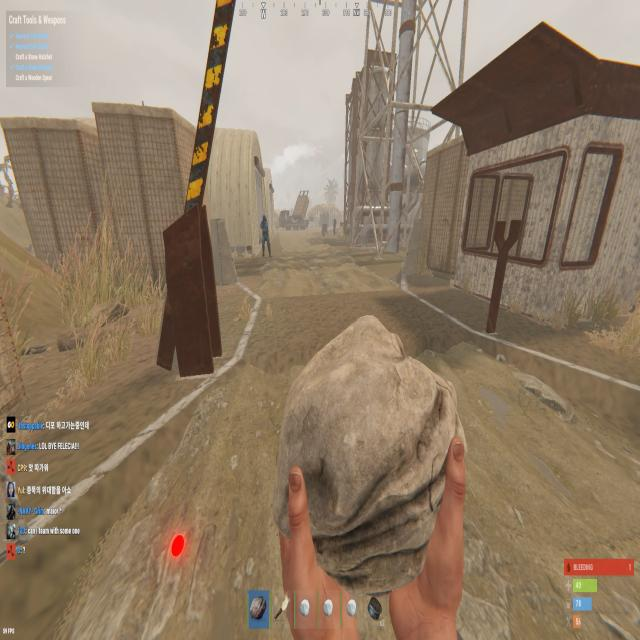Player: (260, 212, 272, 259), (333, 216, 337, 236)
